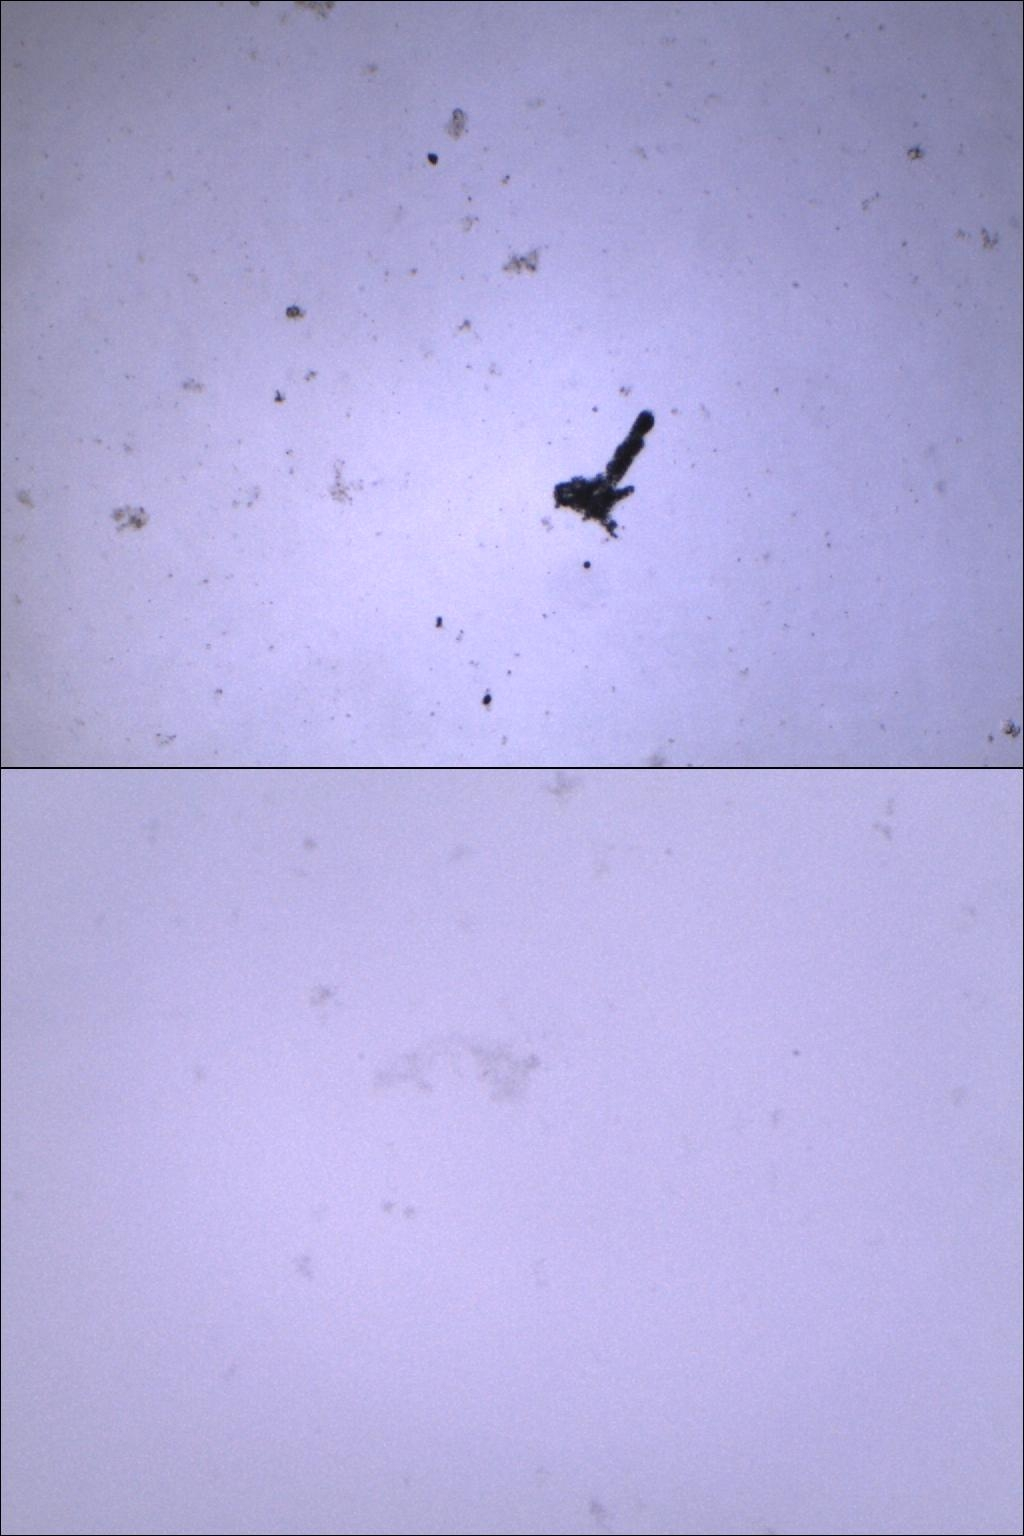N.Fowleri Amoeba: (351, 1018, 561, 1138)
Proteus Amoeba: (533, 403, 671, 555)
